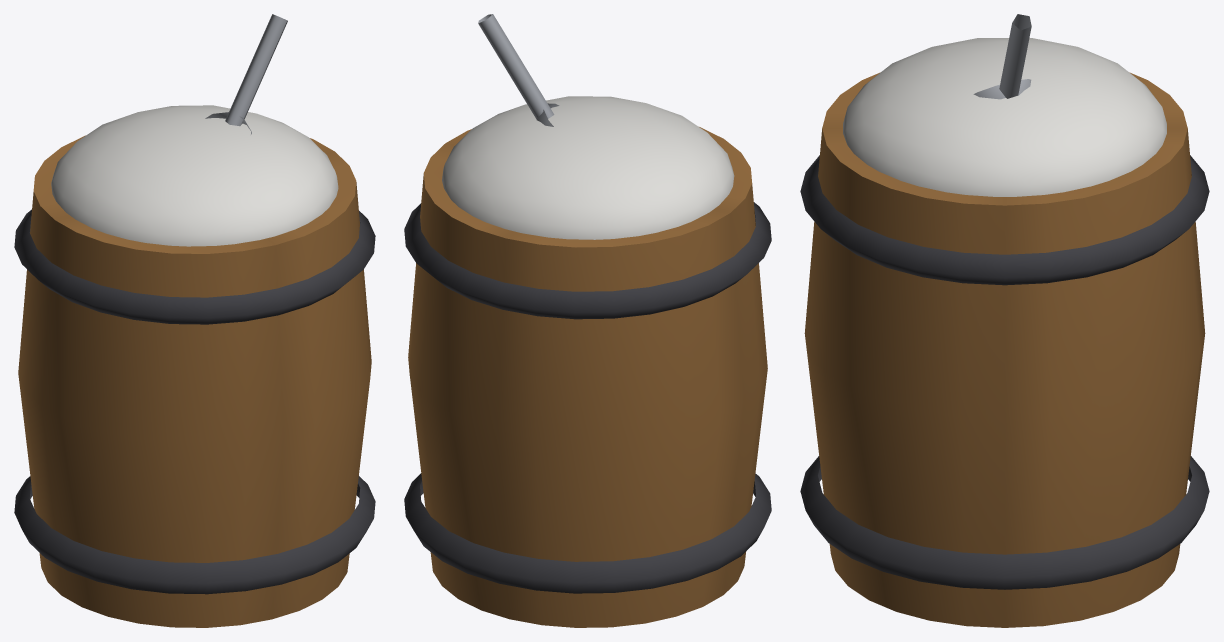
Rendered from furn_flour_bin.glb.
3 renders of one model, left to right at view 1: azimuth 30°, elevation 25°; view 2: azimuth 150°, elevation 25°; view 3: azimuth 270°, elevation 25°, orthographic. The views are drawn at different scales.
Visible parts, largest first — view 1: furn_flour_bin_main; view 2: furn_flour_bin_main; view 3: furn_flour_bin_main.
Part boxes in pixels (box(x1,y1,x2,y2)): furn_flour_bin_main: box(14, 14, 375, 627); furn_flour_bin_main: box(404, 14, 771, 627); furn_flour_bin_main: box(800, 14, 1209, 627).
Size of the model in its own units: 0.47 by 0.7461 by 0.47.
